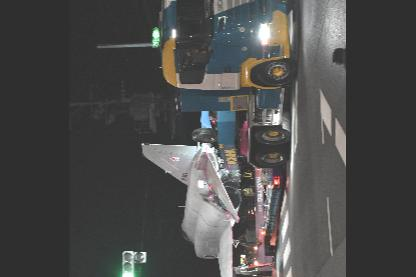F35: (141, 140, 257, 275)
